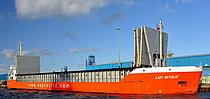Ship: (4, 17, 205, 98)
